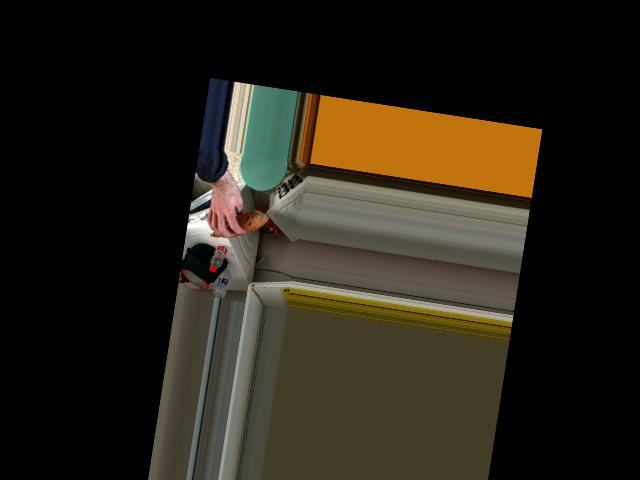sweet_potato: (207, 204, 267, 244)
